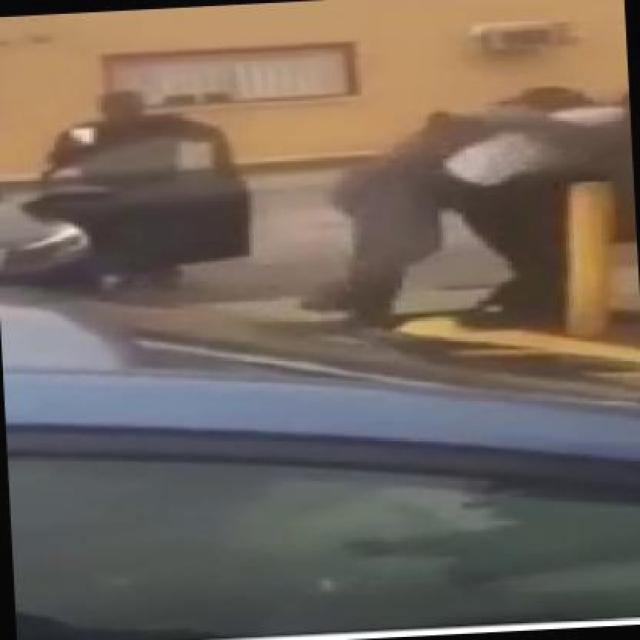fight: (308, 79, 636, 328)
